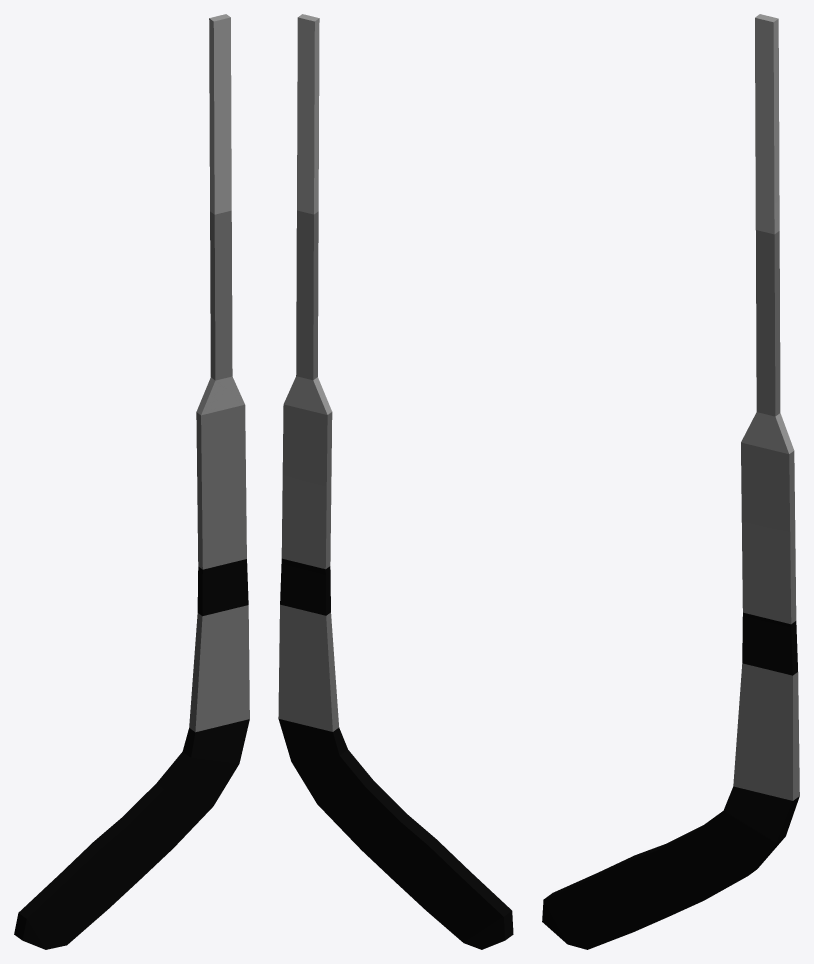
Rendered from Goalkeeper_2_Stick.fbx.
3 renders of one model, left to right at view 1: azimuth 30°, elevation 25°; view 2: azimuth 150°, elevation 25°; view 3: azimuth 330°, elevation 25°, orthographic. The views are drawn at different scales.
Visible parts, largest first — view 1: Goalkeeper_2_Stick; view 2: Goalkeeper_2_Stick; view 3: Goalkeeper_2_Stick.
Part boxes in pixels (bbox=[...]): Goalkeeper_2_Stick: bbox=[14, 14, 249, 949]; Goalkeeper_2_Stick: bbox=[278, 14, 513, 949]; Goalkeeper_2_Stick: bbox=[542, 14, 799, 949].
Bounding box in the file's own units: 40.07 × 149 × 3.03.
